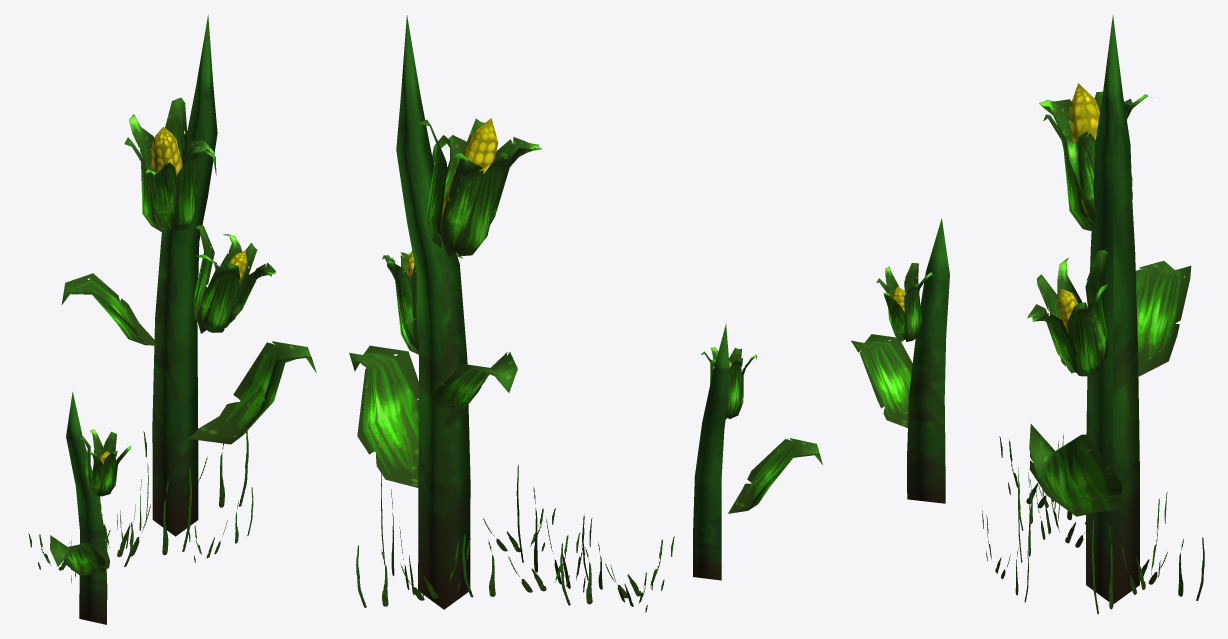
Rendered from corn_stage2.FBX.
The picture shows the model from 3 angles, left to right: view 1: azimuth 30°, elevation 25°; view 2: azimuth 150°, elevation 25°; view 3: azimuth 270°, elevation 25°; orthographic projection. The views are drawn at different scales.
Visible parts, largest first — view 1: corn_stage2; view 2: corn_stage2; view 3: corn_stage2.
Part boxes in pixels (x1=…): corn_stage2: x1=28, y1=15, x2=316, y2=624; corn_stage2: x1=349, y1=15, x2=822, y2=612; corn_stage2: x1=851, y1=15, x2=1204, y2=614.
Size of the model in its own units: 3.23 by 4.61 by 2.54.
Materials: 1 (1 with a texture image).
